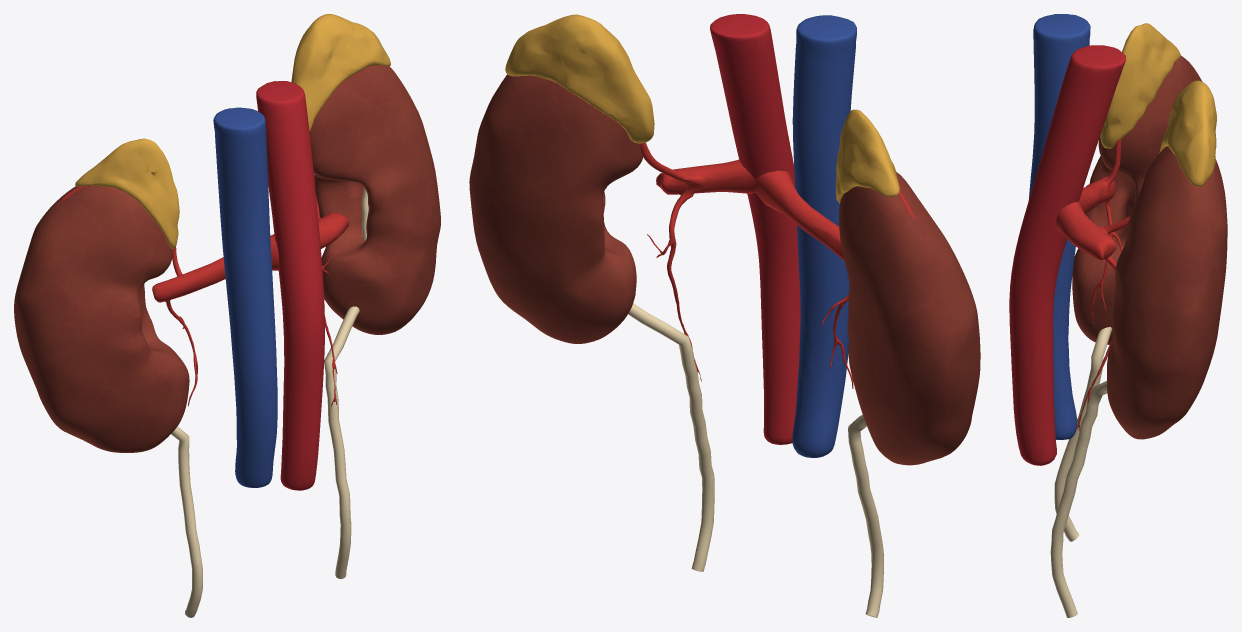
File: kidneys.glb
3 views of the same model, side by side, from view 1: azimuth 30°, elevation 25°; view 2: azimuth 150°, elevation 25°; view 3: azimuth 270°, elevation 25° (orthographic). The views are drawn at different scales.
Parts seen in each view (by area): view 1: rinones, vena_cava_inferior, aorta_abdominal, glandulas_suprarrenales, ureteres, arterias_renales; view 2: rinones, vena_cava_inferior, aorta_abdominal, glandulas_suprarrenales, arterias_renales, ureteres; view 3: rinones, aorta_abdominal, glandulas_suprarrenales, vena_cava_inferior, ureteres, arterias_renales.
Part boxes in pixels (<box>): rinones: <box>14,65,440,452</box>; vena_cava_inferior: <box>213,107,277,487</box>; aorta_abdominal: <box>256,81,324,490</box>; glandulas_suprarrenales: <box>75,14,390,249</box>; ureteres: <box>171,187,368,617</box>; arterias_renales: <box>58,186,348,409</box>; rinones: <box>469,74,980,465</box>; vena_cava_inferior: <box>792,15,856,457</box>; aorta_abdominal: <box>710,14,800,444</box>; glandulas_suprarrenales: <box>505,14,899,203</box>; arterias_renales: <box>640,142,914,388</box>; ureteres: <box>628,303,883,617</box>; rinones: <box>1072,56,1227,439</box>; aorta_abdominal: <box>1009,45,1125,465</box>; glandulas_suprarrenales: <box>1100,23,1216,186</box>; vena_cava_inferior: <box>1028,14,1090,439</box>; ureteres: <box>1050,327,1112,617</box>; arterias_renales: <box>1056,139,1129,431</box>.
Bounding box in the file's own units: 0.1776 × 0.2069 × 0.073.
6 materials, 1 textured.
